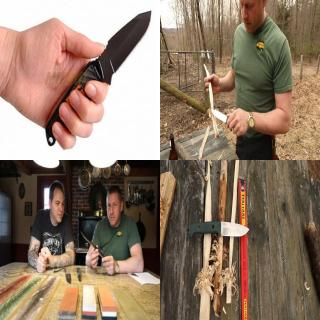knife: (42, 8, 152, 151), (209, 104, 243, 138), (210, 219, 253, 239), (78, 228, 102, 256)
